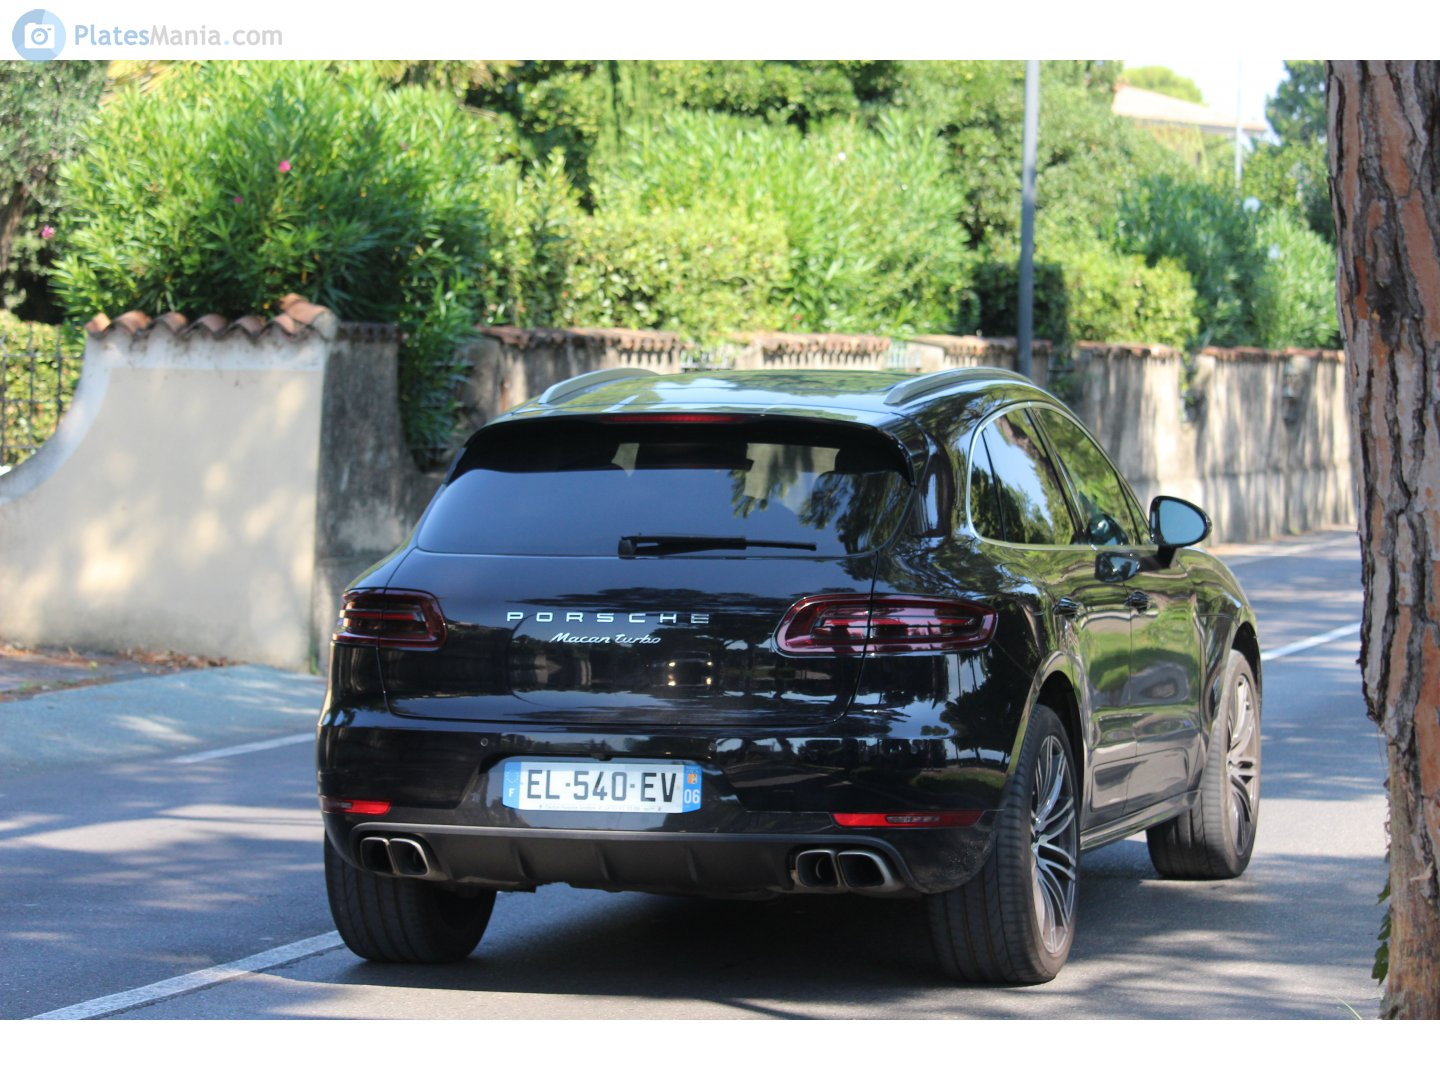licence plate: (498, 754, 706, 817)
